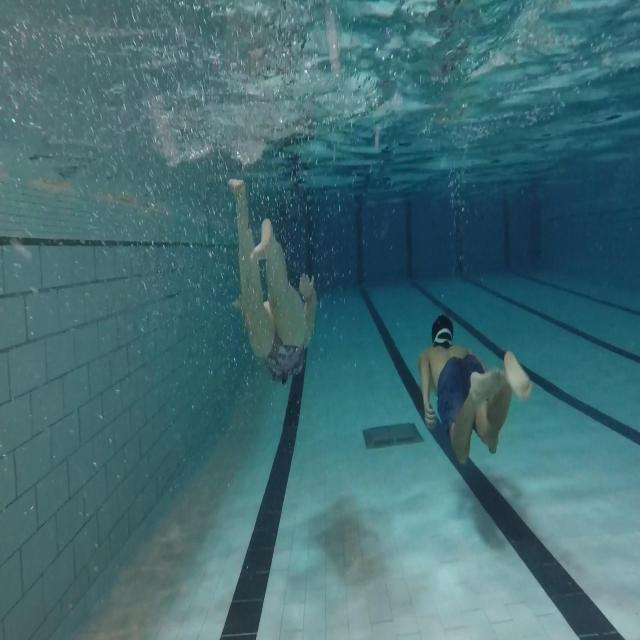human: (227, 176, 317, 385), (417, 312, 532, 466)
